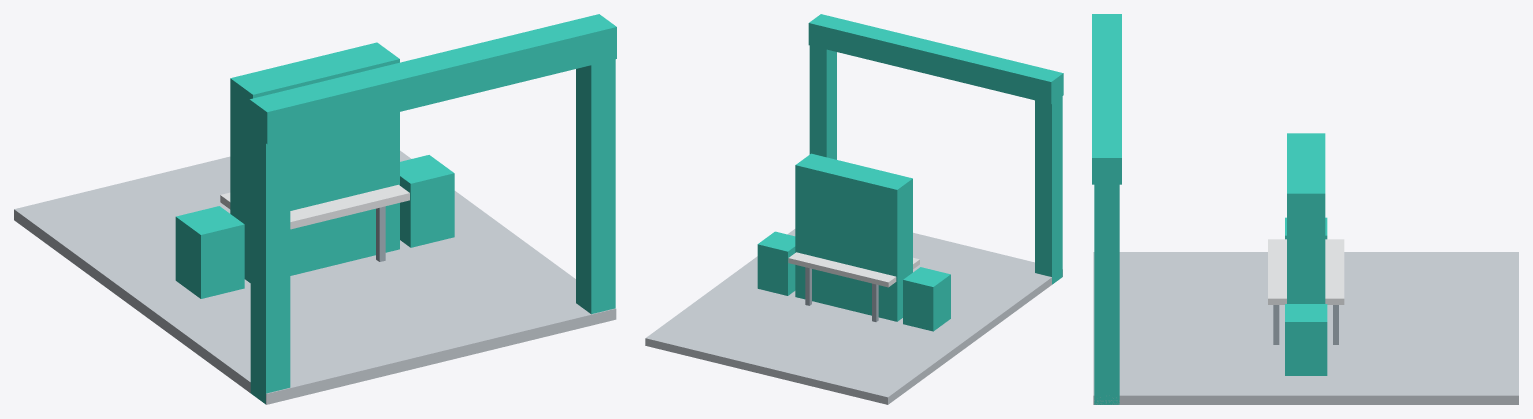
The picture shows the model from 3 angles, left to right: view 1: azimuth 30°, elevation 25°; view 2: azimuth 150°, elevation 25°; view 3: azimuth 270°, elevation 25°; orthographic projection. The views are drawn at different scales.
Visible parts, largest first — view 1: Exhibition Booth Concept; view 2: Exhibition Booth Concept; view 3: Exhibition Booth Concept.
Boxes of the visible parts, bbox=[...] form: Exhibition Booth Concept: bbox=[14, 14, 616, 404]; Exhibition Booth Concept: bbox=[645, 14, 1063, 404]; Exhibition Booth Concept: bbox=[1092, 14, 1518, 404].
Bounding box in the file's own units: 4 × 3.2 × 5.02.
